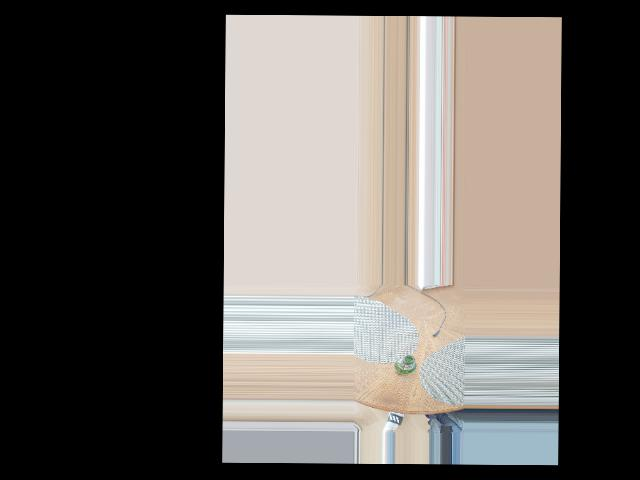beer: (393, 355, 416, 376)
